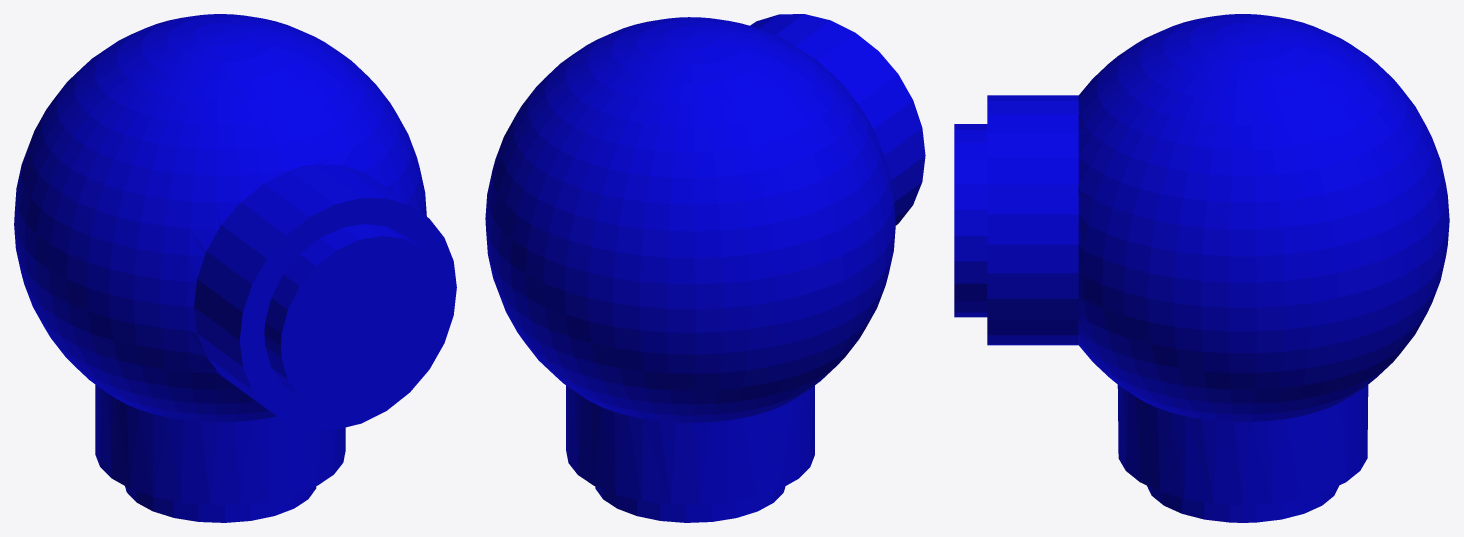
Rendered from arm_1_link.dae.
The picture shows the model from 3 angles, left to right: view 1: azimuth 30°, elevation 25°; view 2: azimuth 150°, elevation 25°; view 3: azimuth 270°, elevation 25°; orthographic projection.
Visible parts, largest first — view 1: Arm 1 Link; view 2: Arm 1 Link; view 3: Arm 1 Link.
Part boxes in pixels (x1,y1,x2,y2): Arm 1 Link: (14,14,456,522); Arm 1 Link: (485,14,925,522); Arm 1 Link: (954,14,1449,522).
Size of the model in its own units: 0.1447 by 0.1738 by 0.1738.
